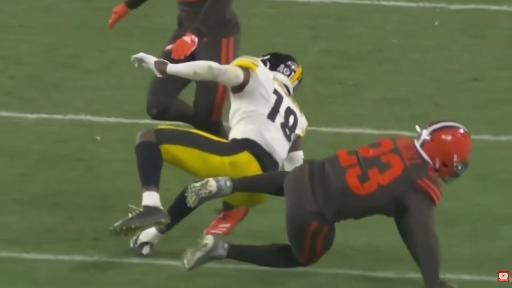Helmet: (415, 121, 471, 182), (260, 53, 302, 95)
Jersey: (308, 139, 441, 222), (229, 57, 307, 166), (178, 0, 240, 37)
Player: (184, 122, 471, 287), (112, 53, 307, 247), (147, 75, 228, 138), (147, 75, 227, 138)
